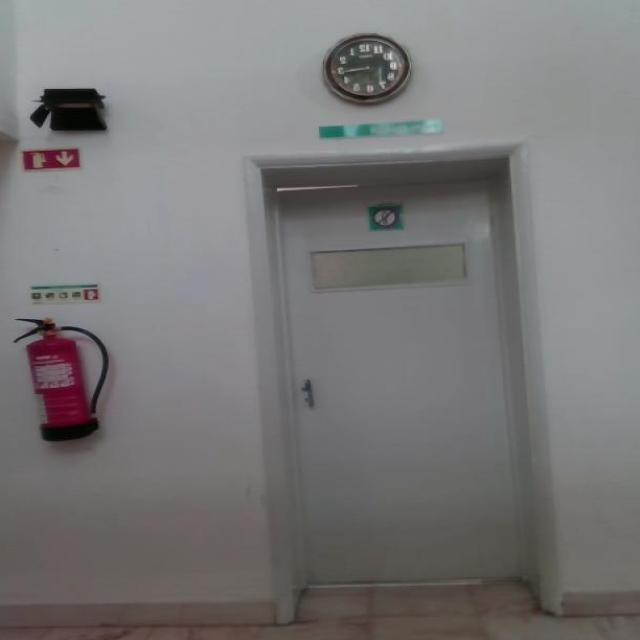door: (273, 177, 530, 591)
